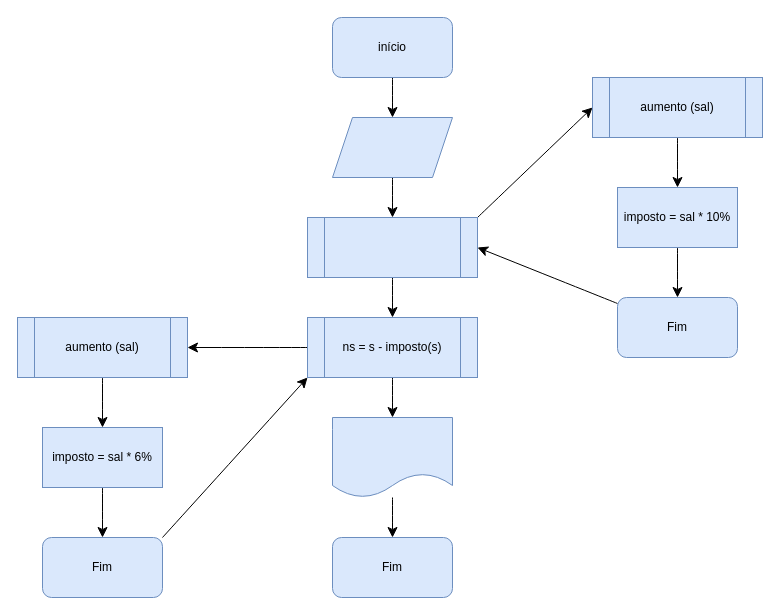
Some shapes in this 780 by 615 pixel diagram are drawn without their labels. The centre of each missing label's shape, as x and y in pixels:
"ns" belongs at pixel 392 457.
"s = sal + aumento (sal)" belongs at pixel 392 247.
"Sal" belongs at pixel 392 147.
